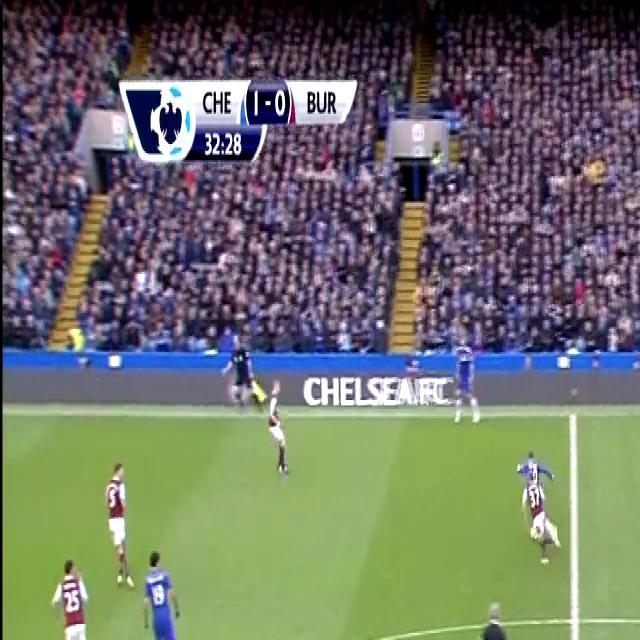referee: (223, 318, 263, 414), (470, 578, 521, 640)
soccer-player: (514, 436, 568, 566), (139, 538, 190, 640), (97, 451, 133, 591), (48, 551, 103, 640), (447, 332, 488, 436), (260, 386, 291, 486)
